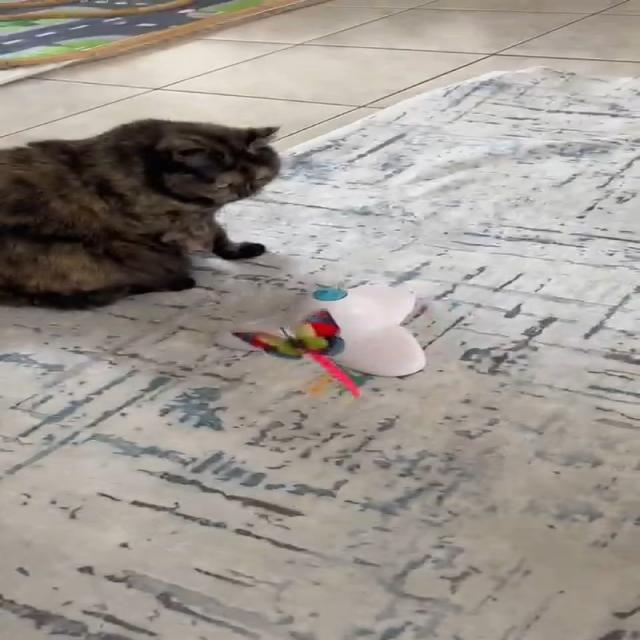authorized: (0, 117, 283, 310)
